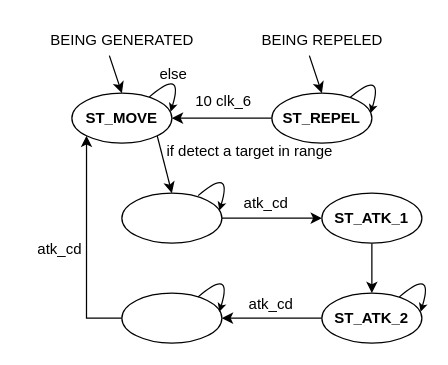
This 448x365 diagram has some shape labels left out. Here are the shapes that lost their labels. From the top down, the centre of each, then its label:
At point (171, 217): "ST_ATK_0".
At point (171, 317): "ST_ATK_3".
